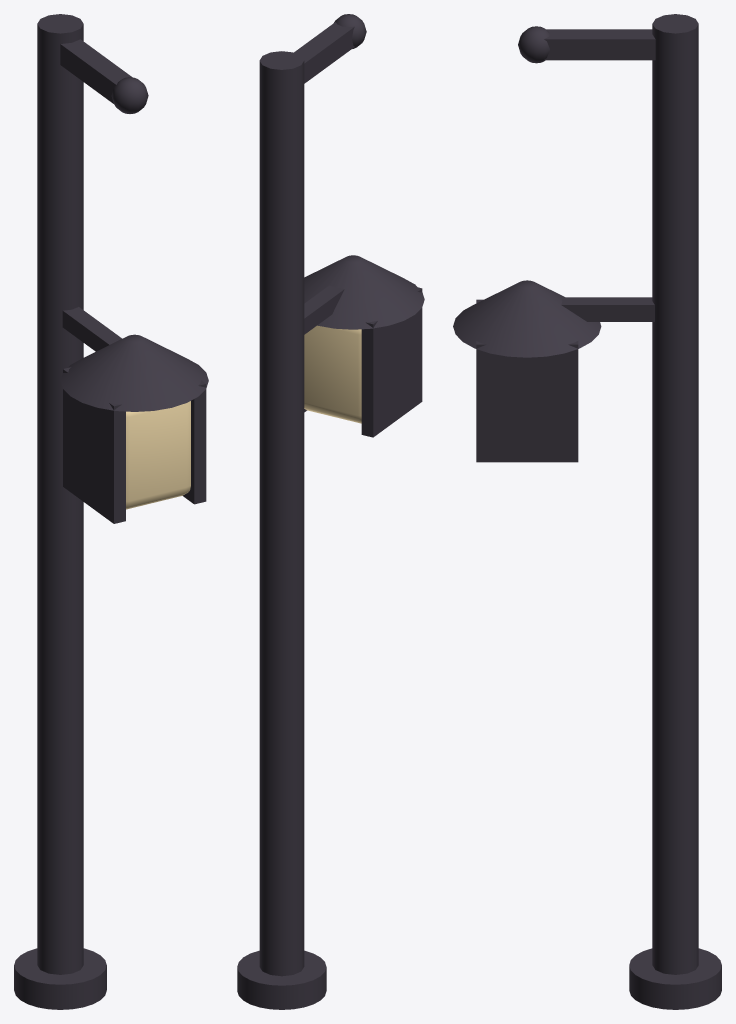
Rendered from light_post.glb.
The picture shows the model from 3 angles, left to right: view 1: azimuth 30°, elevation 25°; view 2: azimuth 150°, elevation 25°; view 3: azimuth 270°, elevation 25°; orthographic projection. The views are drawn at different scales.
Visible parts, largest first — view 1: light_post; view 2: light_post; view 3: light_post.
Boxes of the visible parts, x1,y1,x2,y2 form: light_post: (14, 14, 208, 1009); light_post: (237, 14, 424, 1009); light_post: (453, 14, 721, 1009).
Size of the model in its own units: 0.32 by 2.3 by 0.58.
